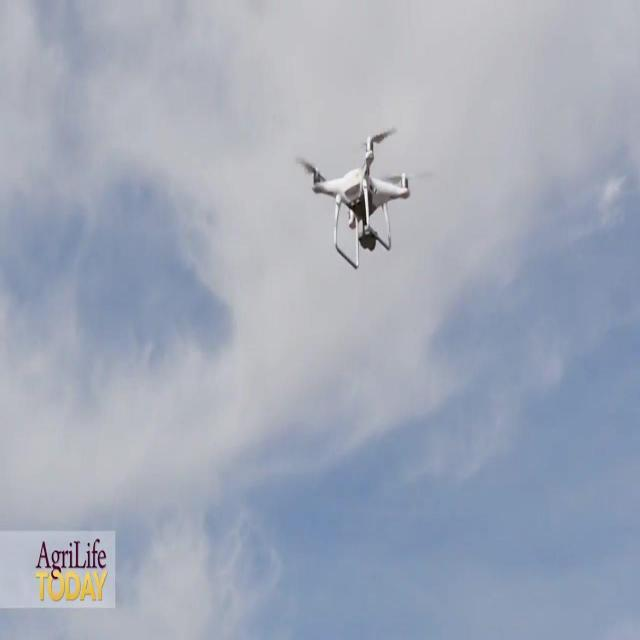UAV: (294, 126, 436, 270)
